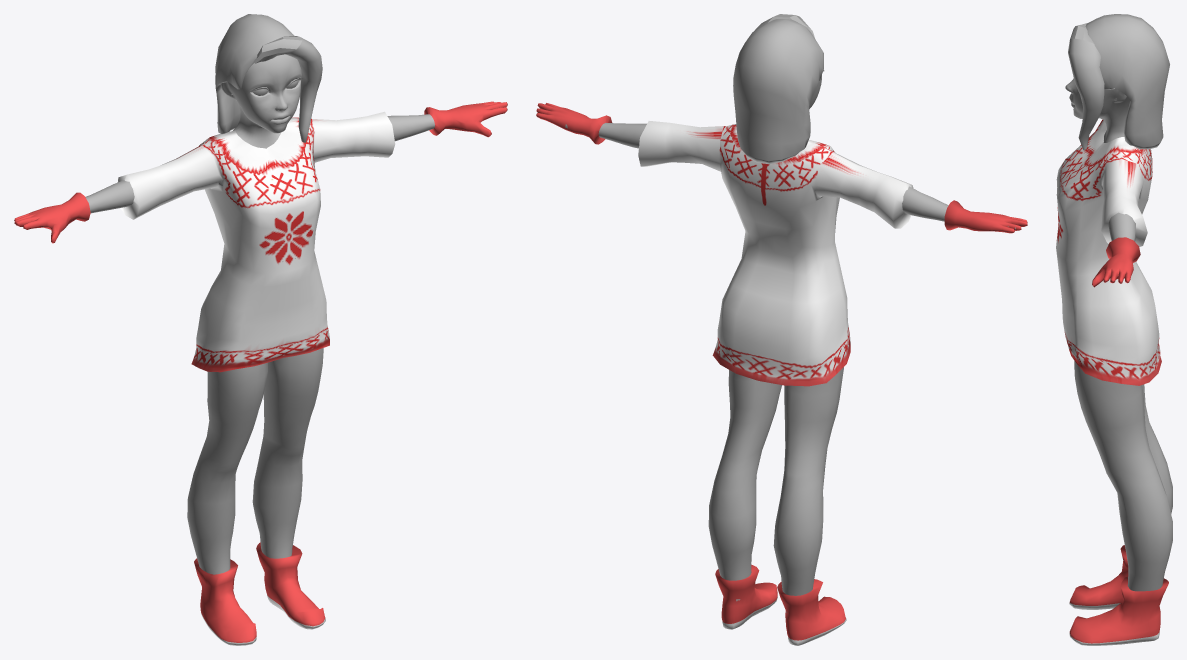
File: girl_clother_1_skeleton.fbx
3 views of the same model, side by side, from view 1: azimuth 30°, elevation 25°; view 2: azimuth 150°, elevation 25°; view 3: azimuth 270°, elevation 25° (orthographic).
Parts seen in each view (by area): view 1: polySurface30, polySurface20; view 2: polySurface30, polySurface20; view 3: polySurface30, polySurface20.
Part boxes in pixels (x1,y1,x2,y2): polySurface30: (14, 101, 507, 645); polySurface20: (85, 14, 434, 261); polySurface30: (536, 103, 1027, 645); polySurface20: (565, 14, 1015, 633); polySurface30: (1056, 119, 1172, 645); polySurface20: (1057, 14, 1169, 607).
Size of the model in its own units: 2.71 by 3.18 by 0.555.
3 materials, 1 textured.
